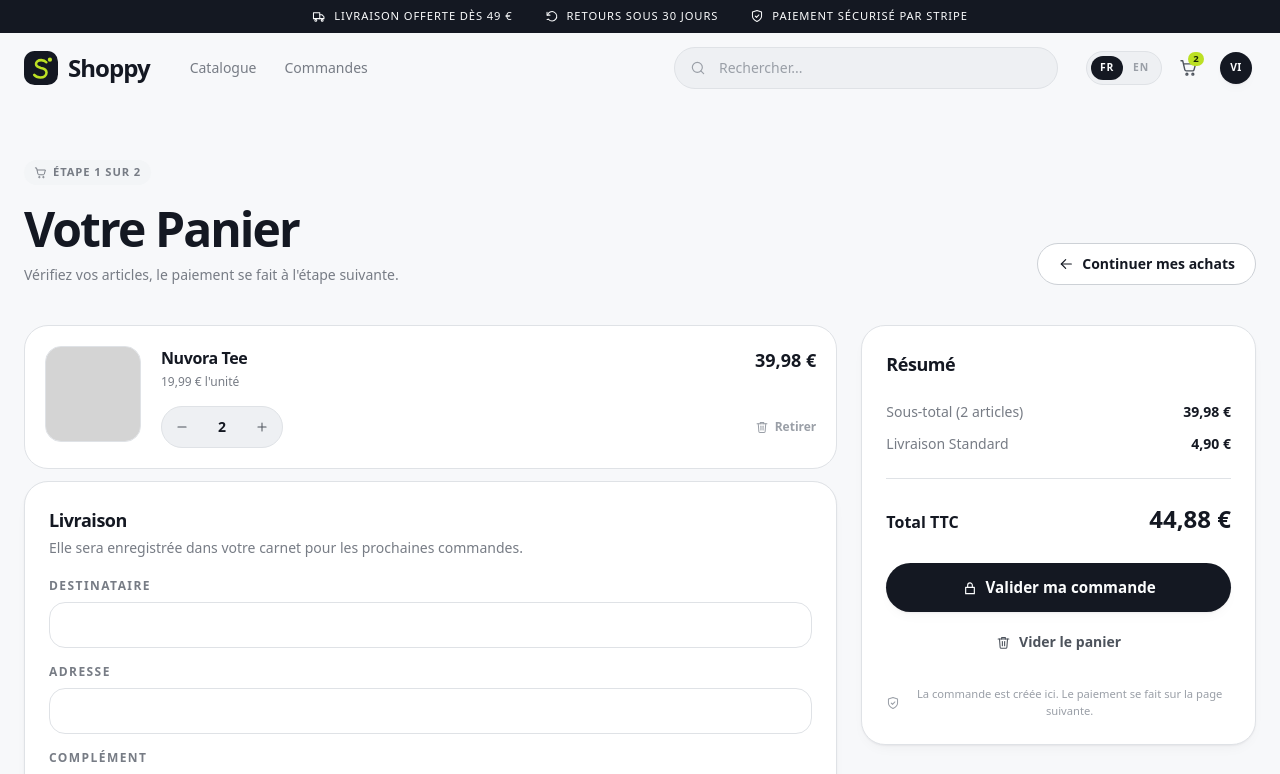
Scenario: CartPage › shows cart lines, updates quantity, removes an item and checks out
Expected: the heading "Nuvora Tee" is shown, [161, 346, 247, 370]
Expected: the text "39,98 €" in the row of "Nuvora Tee" is shown, [755, 348, 816, 372]
Replace the text in the number field named "Quantité Nuvora Tee" with "3" at (222, 427), box [202, 417, 242, 437]
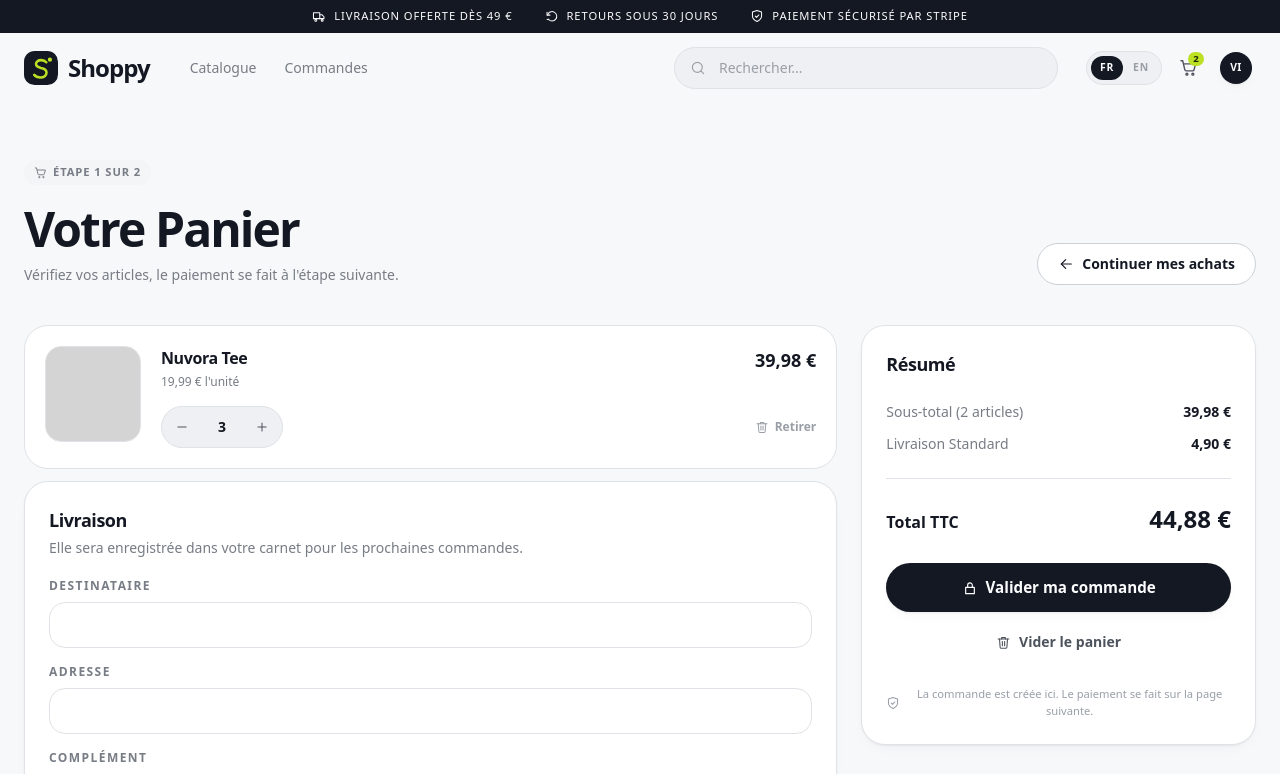
Press Tab
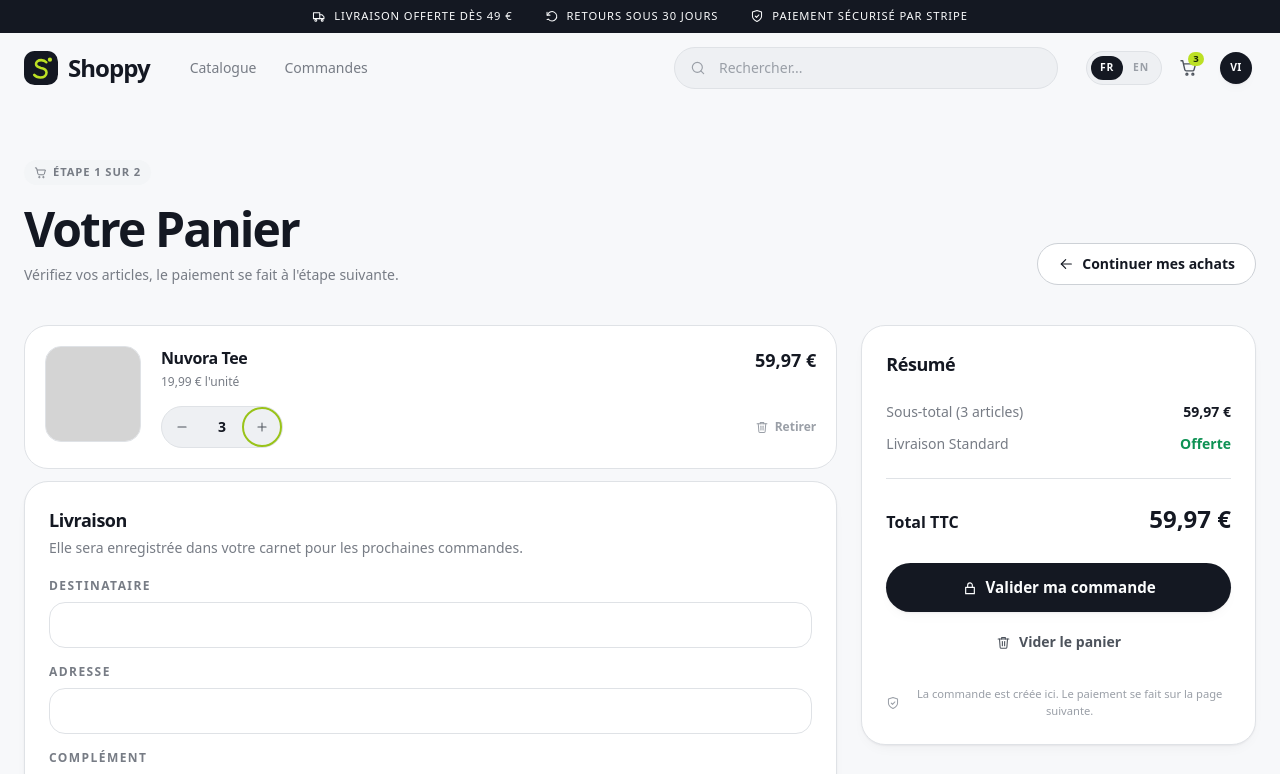
Click the button "Retirer".
click(786, 427)  # box [755, 419, 816, 435]
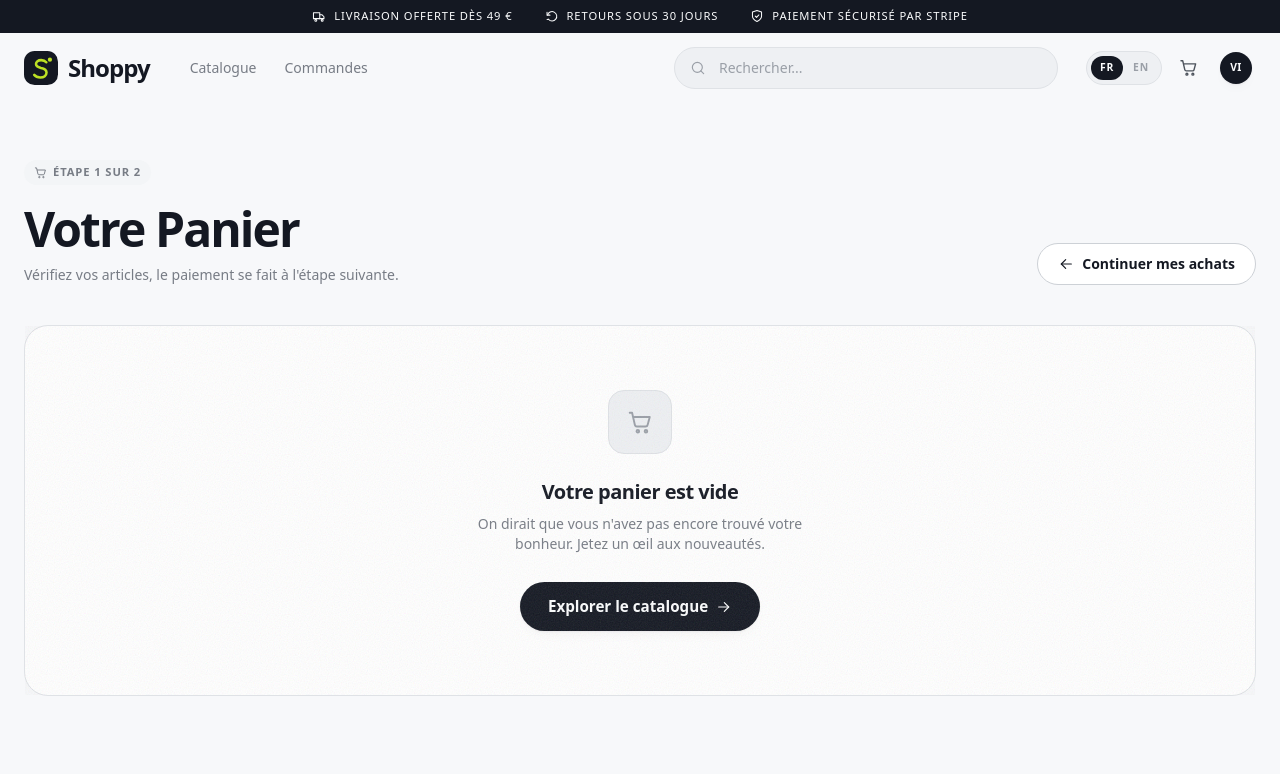
Now the heading "Votre panier est vide" is shown, box [542, 478, 738, 506]
